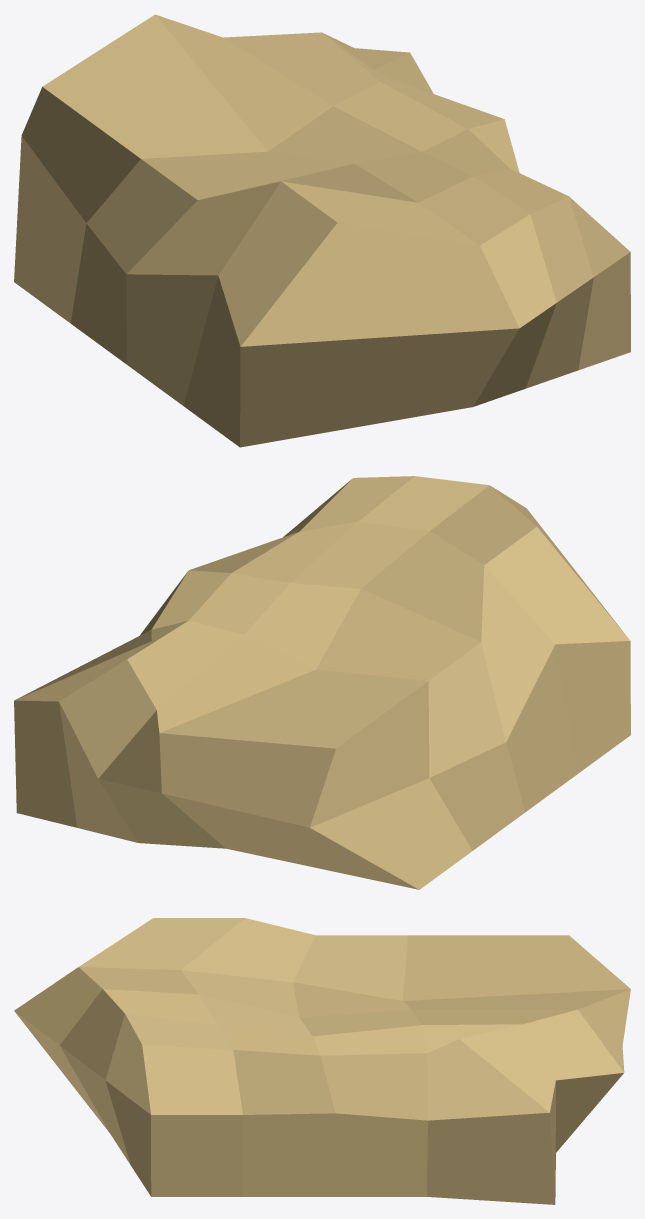
The model's file is Rock1.fbx.
3 renders of one model, top to bottom at view 1: azimuth 30°, elevation 25°; view 2: azimuth 150°, elevation 25°; view 3: azimuth 270°, elevation 25°, orthographic. The views are drawn at different scales.
Parts seen in each view (by area): view 1: Cube; view 2: Cube; view 3: Cube.
Boxes of the visible parts, x1=… form: Cube: x1=14, y1=14, x2=630, y2=447; Cube: x1=14, y1=476, x2=630, y2=889; Cube: x1=14, y1=918, x2=630, y2=1204.
Size of the model in its own units: 212 by 98.3 by 335.
